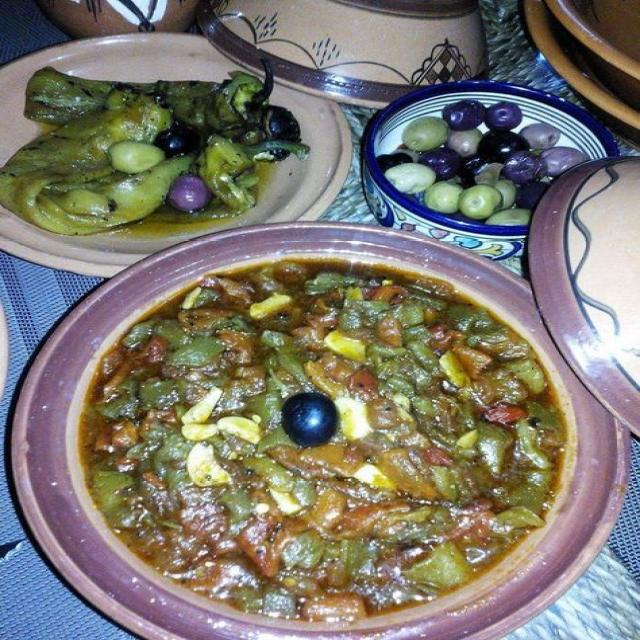Salade mechweya: (0, 221, 599, 639)
